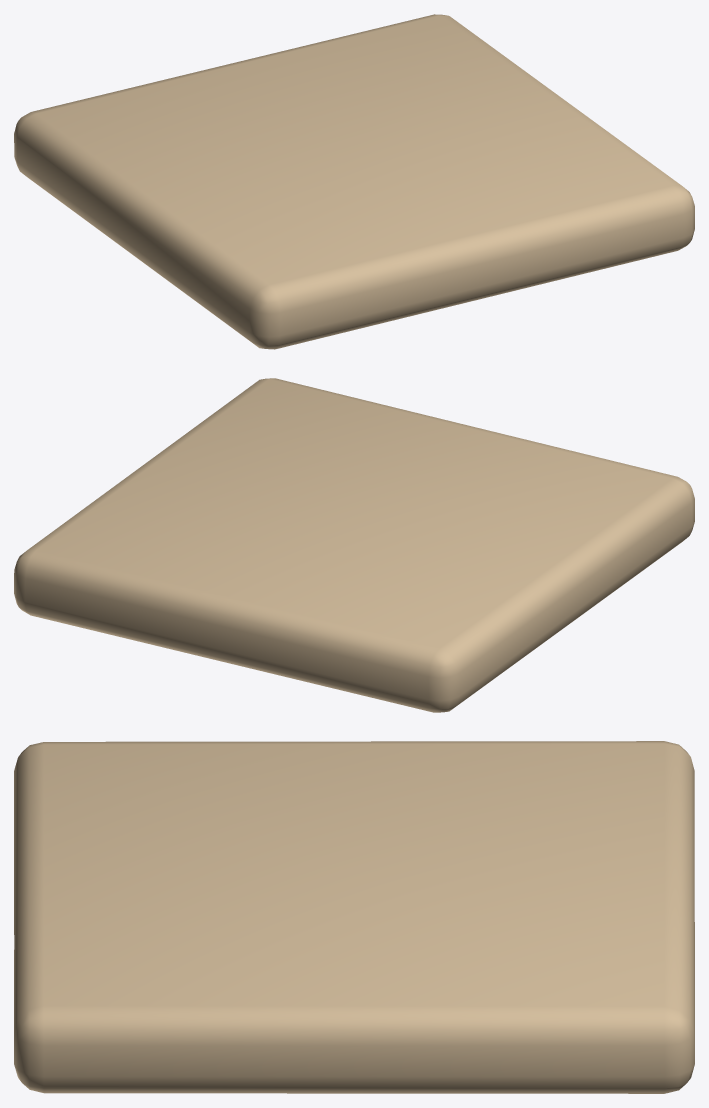
The model's file is PLATTE.glb.
The picture shows the model from 3 angles, top to bottom: view 1: azimuth 30°, elevation 25°; view 2: azimuth 150°, elevation 25°; view 3: azimuth 270°, elevation 25°; orthographic projection. The views are drawn at different scales.
Parts seen in each view (by area): view 1: PLATTE; view 2: PLATTE; view 3: PLATTE.
Part boxes in pixels (left/top/right/bottom): PLATTE: left=14, top=14, right=694, bottom=349; PLATTE: left=14, top=378, right=694, bottom=712; PLATTE: left=14, top=741, right=694, bottom=1093.
Bounding box in the file's own units: 1.6 × 0.2234 × 1.6.
